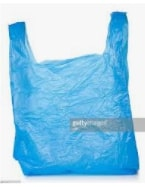kantong: (7, 11, 140, 177)
